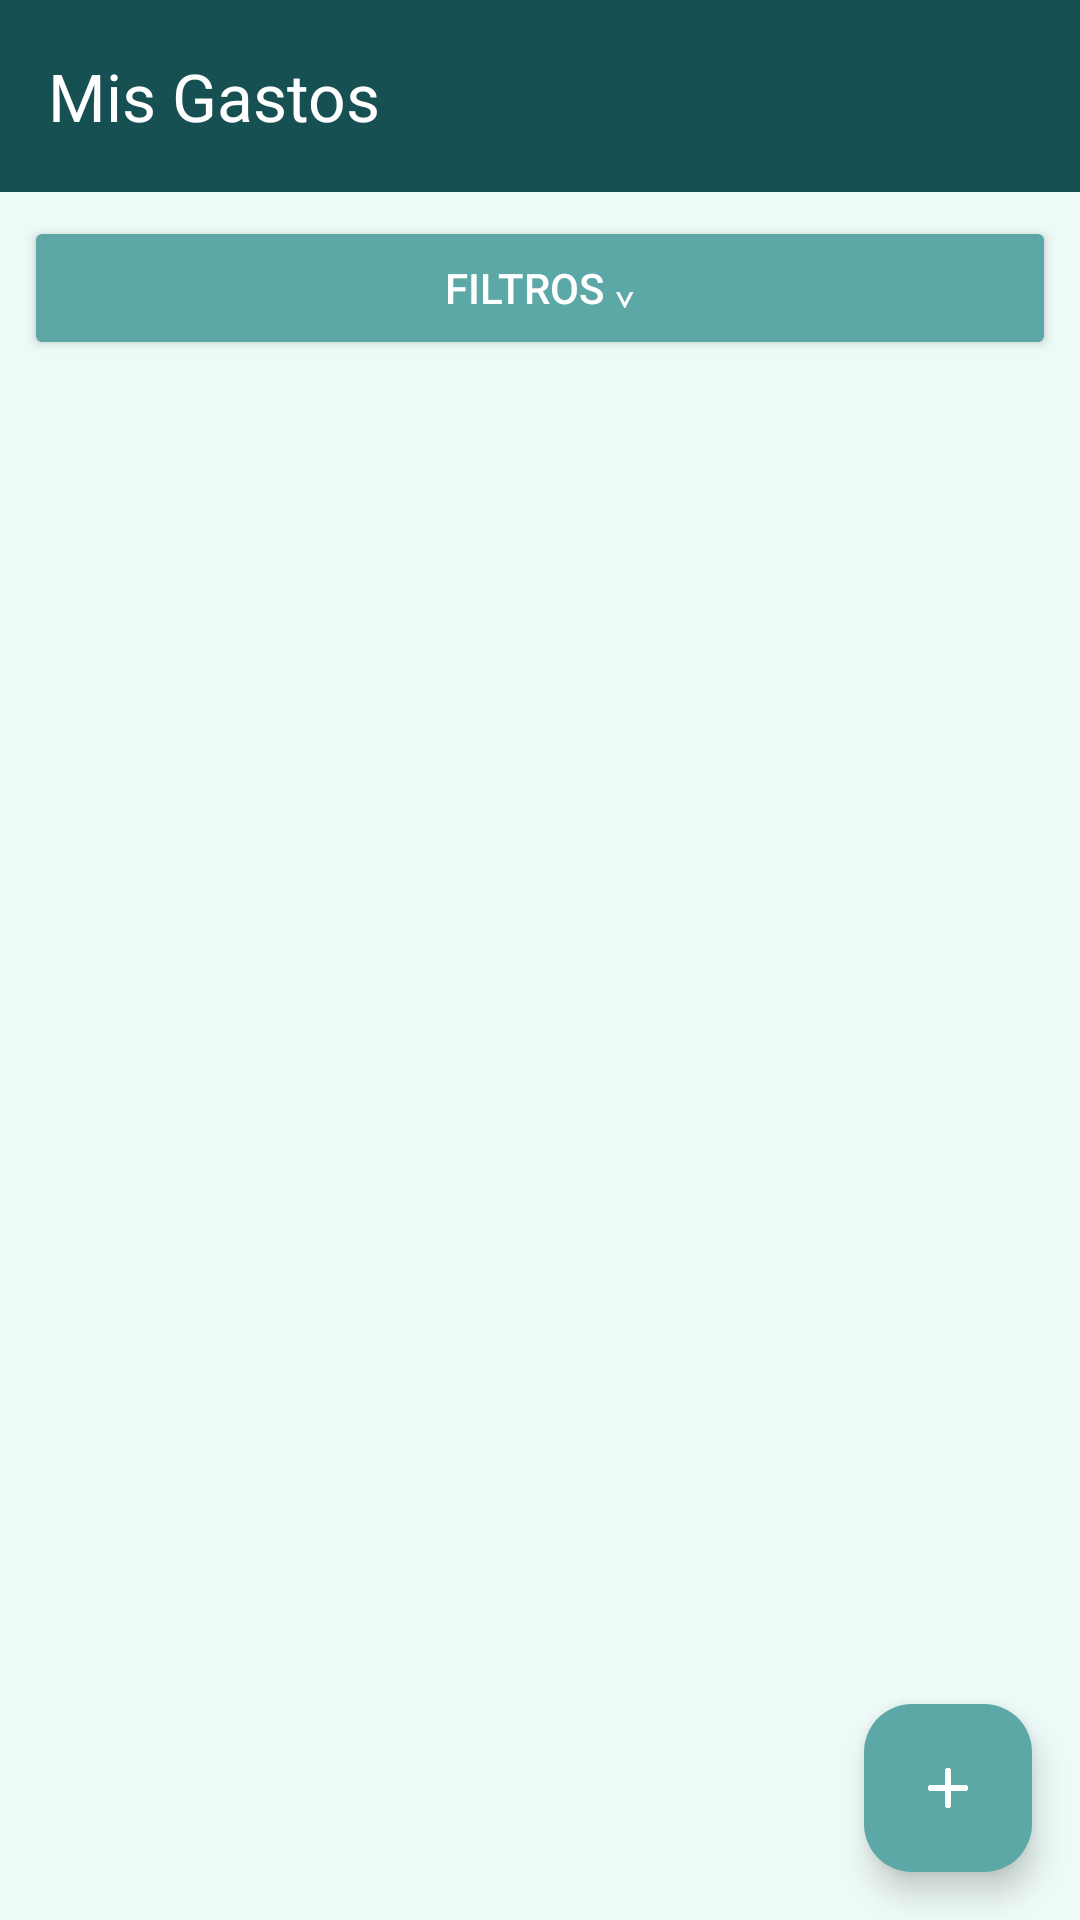

Where to tap for icons on this 1080x1920 app screen, as (x=x, y=y):
Nuevo gasto: (x=948, y=1788)
